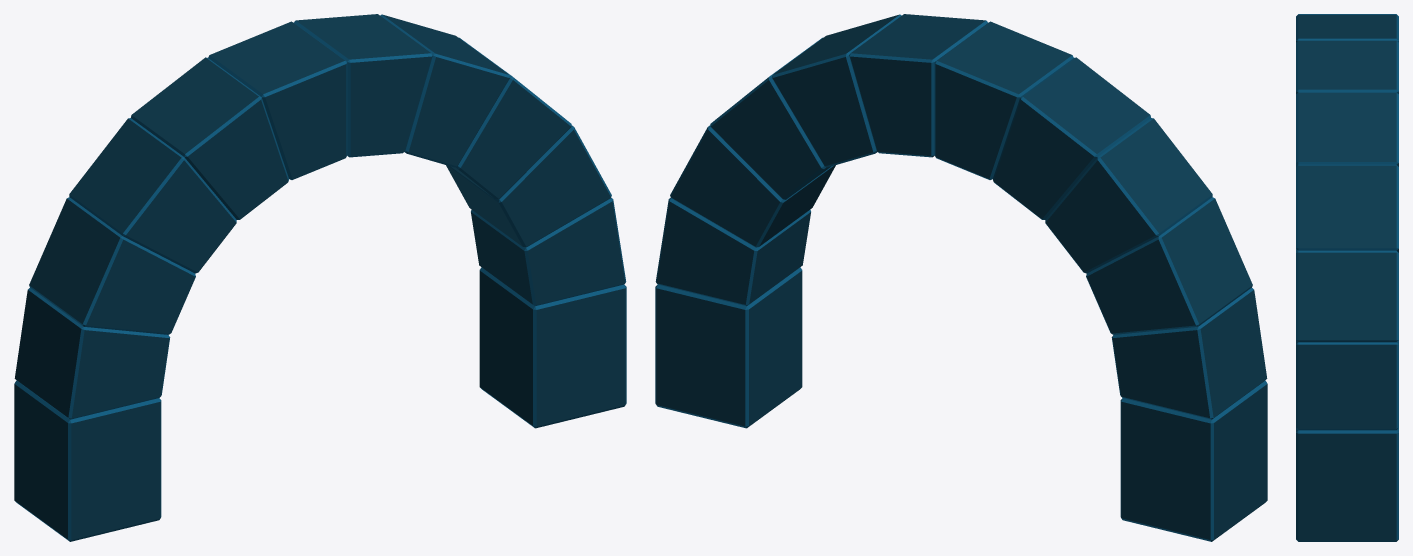
Rendered from gate_type_01.fbx.
The picture shows the model from 3 angles, left to right: view 1: azimuth 30°, elevation 25°; view 2: azimuth 150°, elevation 25°; view 3: azimuth 270°, elevation 25°; orthographic projection. The views are drawn at different scales.
Visible parts, largest first — view 1: gate_type_01; view 2: gate_type_01; view 3: gate_type_01.
Part boxes in pixels (left/top/right/bottom): gate_type_01: left=14, top=14, right=626, bottom=541; gate_type_01: left=655, top=14, right=1267, bottom=541; gate_type_01: left=1296, top=14, right=1398, bottom=541.
Size of the model in its own units: 344 by 244 by 60.
